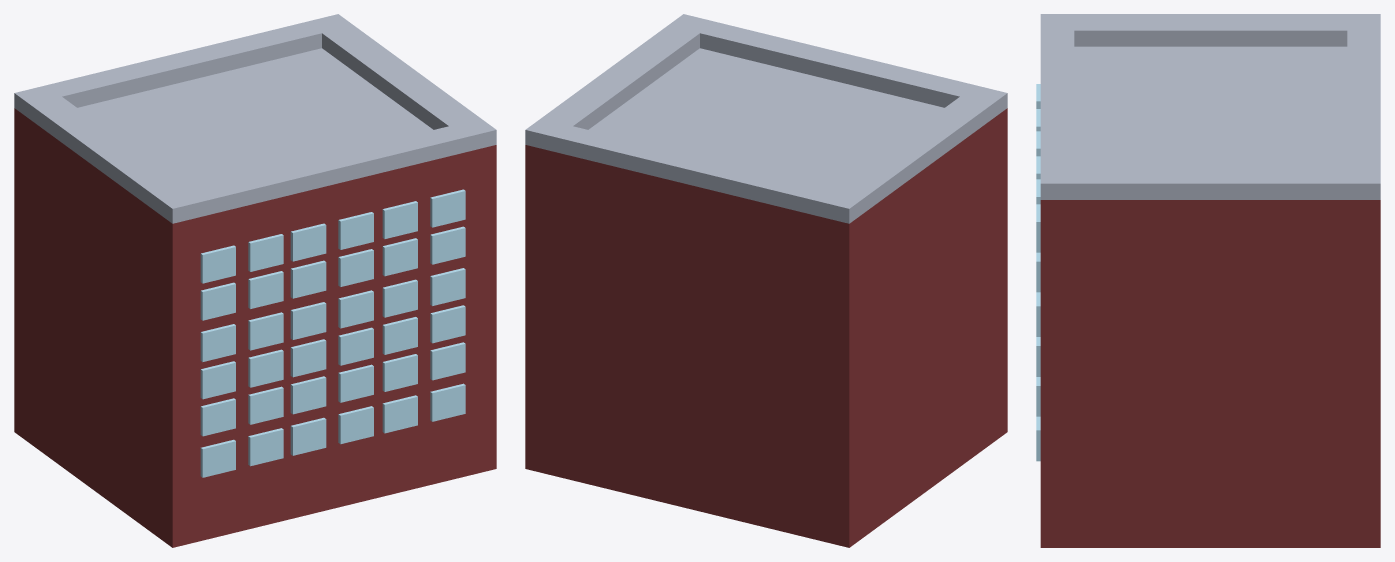
The model's file is fabrikas1.fbx.
The picture shows the model from 3 angles, left to right: view 1: azimuth 30°, elevation 25°; view 2: azimuth 150°, elevation 25°; view 3: azimuth 270°, elevation 25°; orthographic projection. The views are drawn at different scales.
Parts seen in each view (by area): view 1: fabrikas1; view 2: fabrikas1; view 3: fabrikas1.
Part boxes in pixels (x1,y1,x2,y2): fabrikas1: (14, 14, 496, 547); fabrikas1: (525, 14, 1007, 547); fabrikas1: (1036, 14, 1380, 547).
Bounding box in the file's own units: 700 × 700 × 600.
